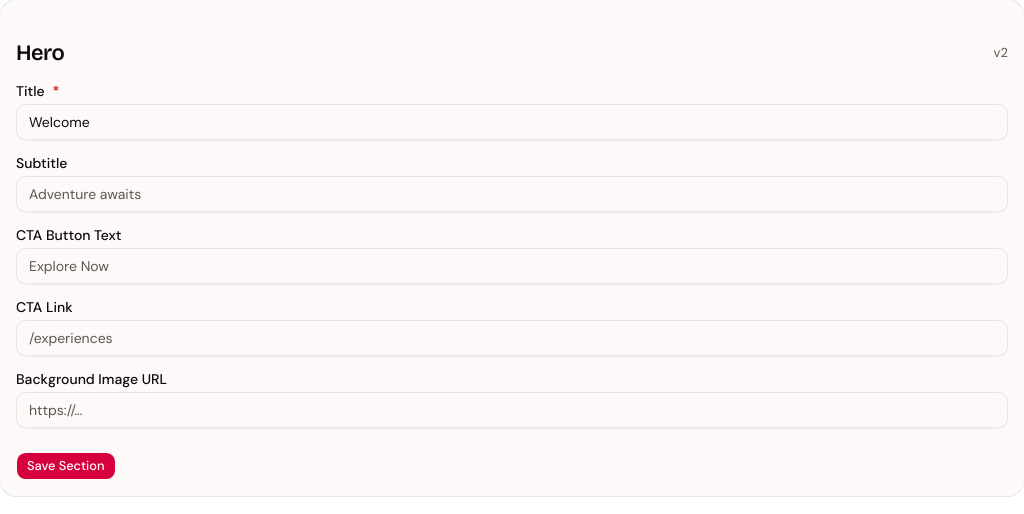
Scenario: SectionForm (A2, variant A) — token-true + preserved save behaviour › drives the saveSection action from "Save Section" and surfaces "Saved (vN)"
Click the button "Save Section" at {"x": 66, "y": 466}, box [16,452,116,480]
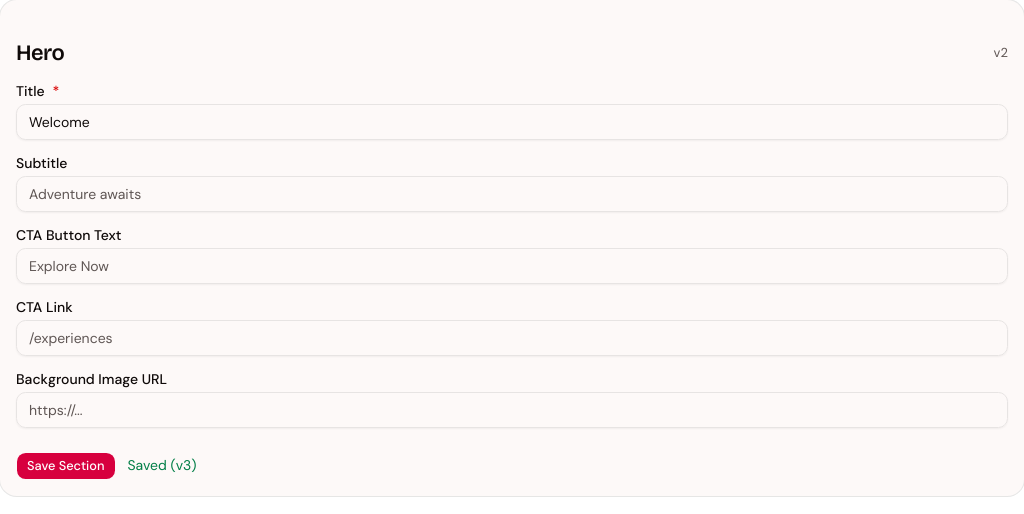
expect the text "Saved (v3)" is shown: met, box [128,455,197,476]
